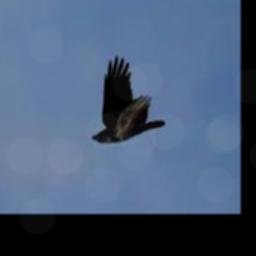Crow: (91, 56, 165, 143)
